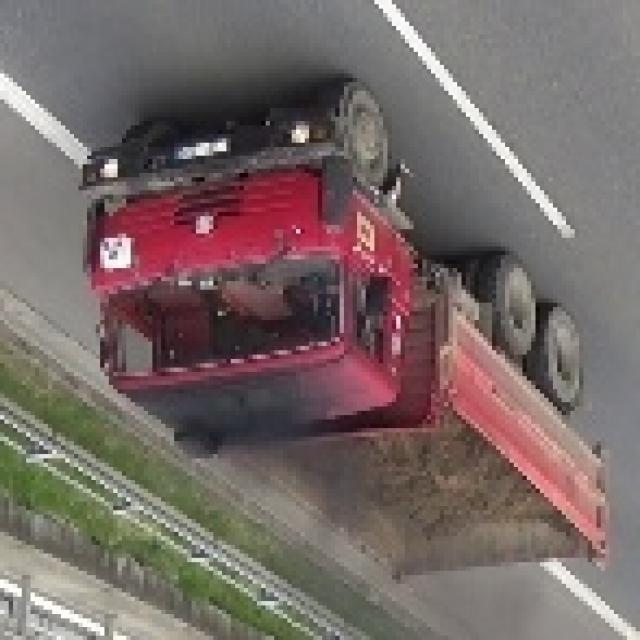truck: (83, 78, 614, 580)
